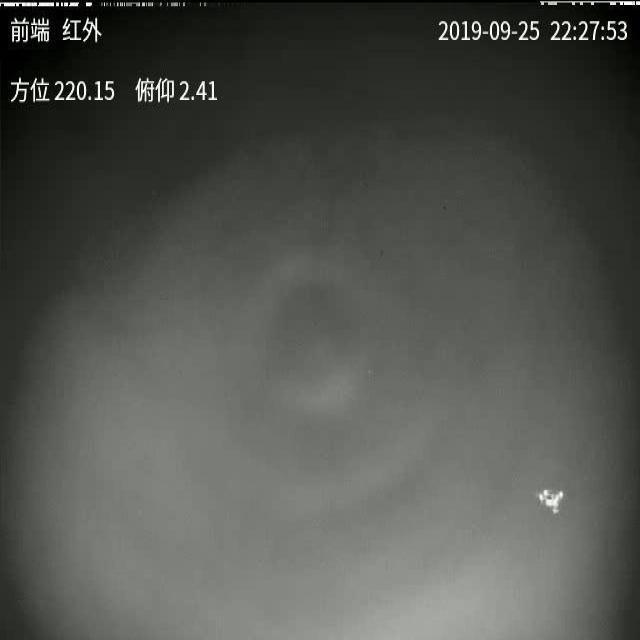drone: (538, 487, 566, 518)
